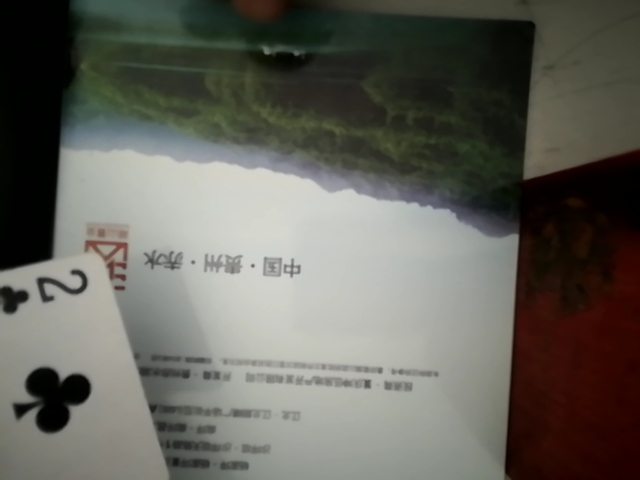mh 2: (2, 242, 176, 477)
